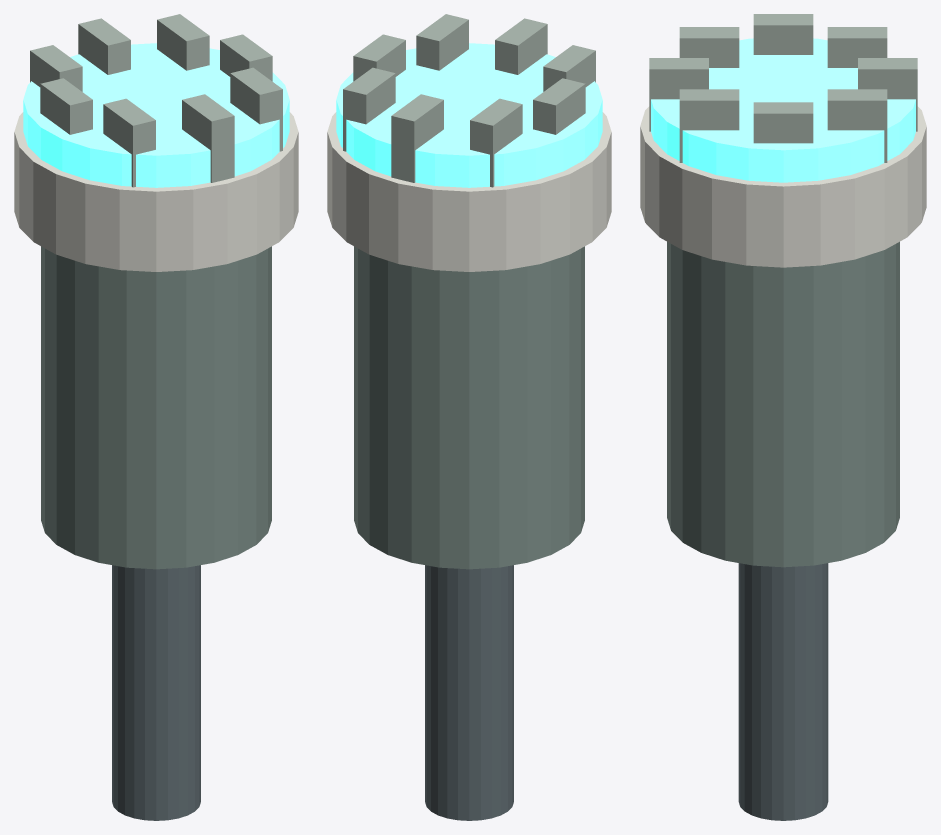
File: s7-i05-dripper-adjustable.glb
3 renders of one model, left to right at view 1: azimuth 30°, elevation 25°; view 2: azimuth 150°, elevation 25°; view 3: azimuth 270°, elevation 25°, orthographic.
Parts seen in each view (by area): view 1: 000_dripper_body, 001_upper_dripper_collar, 003_soil_stake, 002_flow_cap, 006_adjustment_ridge, 007_adjustment_ridge, 005_adjustment_ridge, 008_adjustment_ridge, 010_adjustment_ridge, 011_adjustment_ridge, 009_adjustment_ridge, 004_adjustment_ridge; view 2: 000_dripper_body, 001_upper_dripper_collar, 003_soil_stake, 002_flow_cap, 010_adjustment_ridge, 009_adjustment_ridge, 011_adjustment_ridge, 005_adjustment_ridge, 006_adjustment_ridge, 008_adjustment_ridge, 007_adjustment_ridge, 004_adjustment_ridge; view 3: 000_dripper_body, 001_upper_dripper_collar, 003_soil_stake, 002_flow_cap, 005_adjustment_ridge, 011_adjustment_ridge, 004_adjustment_ridge, 008_adjustment_ridge, 006_adjustment_ridge, 010_adjustment_ridge, 007_adjustment_ridge, 009_adjustment_ridge.
Boxes of the visible parts, <box> form: 000_dripper_body: <box>41,246,271,569</box>; 001_upper_dripper_collar: <box>14,112,298,271</box>; 003_soil_stake: <box>112,565,200,820</box>; 002_flow_cap: <box>23,43,289,187</box>; 006_adjustment_ridge: <box>182,94,234,182</box>; 007_adjustment_ridge: <box>103,98,155,187</box>; 005_adjustment_ridge: <box>230,67,282,151</box>; 008_adjustment_ridge: <box>40,78,92,134</box>; 010_adjustment_ridge: <box>78,18,130,74</box>; 011_adjustment_ridge: <box>157,14,209,70</box>; 009_adjustment_ridge: <box>30,45,82,91</box>; 004_adjustment_ridge: <box>220,34,272,81</box>; 000_dripper_body: <box>354,246,584,569</box>; 001_upper_dripper_collar: <box>327,112,611,271</box>; 003_soil_stake: <box>425,565,513,820</box>; 002_flow_cap: <box>336,43,602,187</box>; 010_adjustment_ridge: <box>391,94,443,182</box>; 009_adjustment_ridge: <box>470,98,522,187</box>; 011_adjustment_ridge: <box>343,67,395,151</box>; 005_adjustment_ridge: <box>416,14,468,70</box>; 006_adjustment_ridge: <box>495,18,547,74</box>; 008_adjustment_ridge: <box>533,78,585,134</box>; 007_adjustment_ridge: <box>543,45,595,91</box>; 004_adjustment_ridge: <box>353,34,405,81</box>; 000_dripper_body: <box>667,241,899,567</box>; 001_upper_dripper_collar: <box>640,106,926,267</box>; 003_soil_stake: <box>738,563,828,820</box>; 002_flow_cap: <box>651,38,915,182</box>; 005_adjustment_ridge: <box>679,89,739,162</box>; 011_adjustment_ridge: <box>827,89,887,162</box>; 004_adjustment_ridge: <box>753,102,813,143</box>; 008_adjustment_ridge: <box>753,14,813,54</box>; 006_adjustment_ridge: <box>649,58,708,131</box>; 010_adjustment_ridge: <box>858,58,917,131</box>; 007_adjustment_ridge: <box>679,27,739,67</box>; 009_adjustment_ridge: <box>827,27,887,67</box>.
Bounding box in the file's own units: 0.096 × 0.273 × 0.096.
